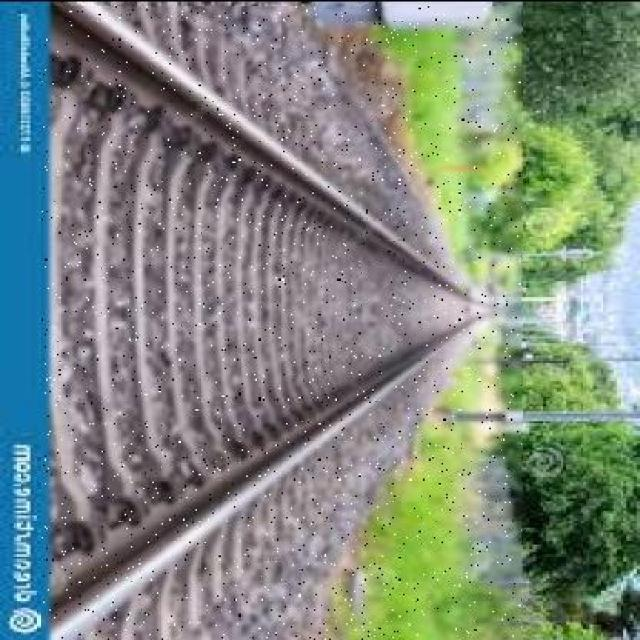rail: (40, 5, 521, 640)
